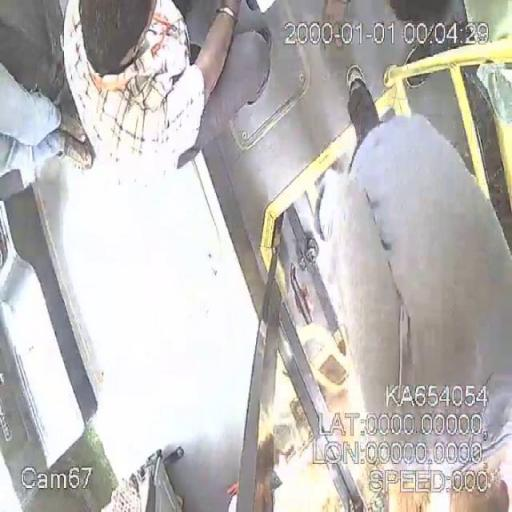persona: (328, 63, 511, 511), (60, 0, 245, 178)
